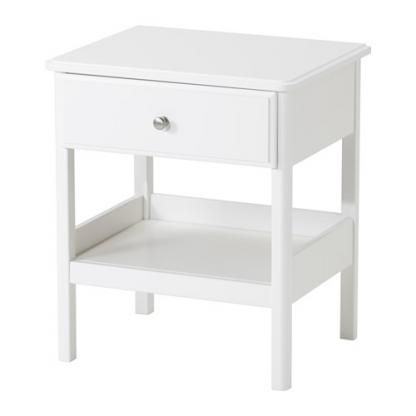Table: (37, 18, 376, 396)
